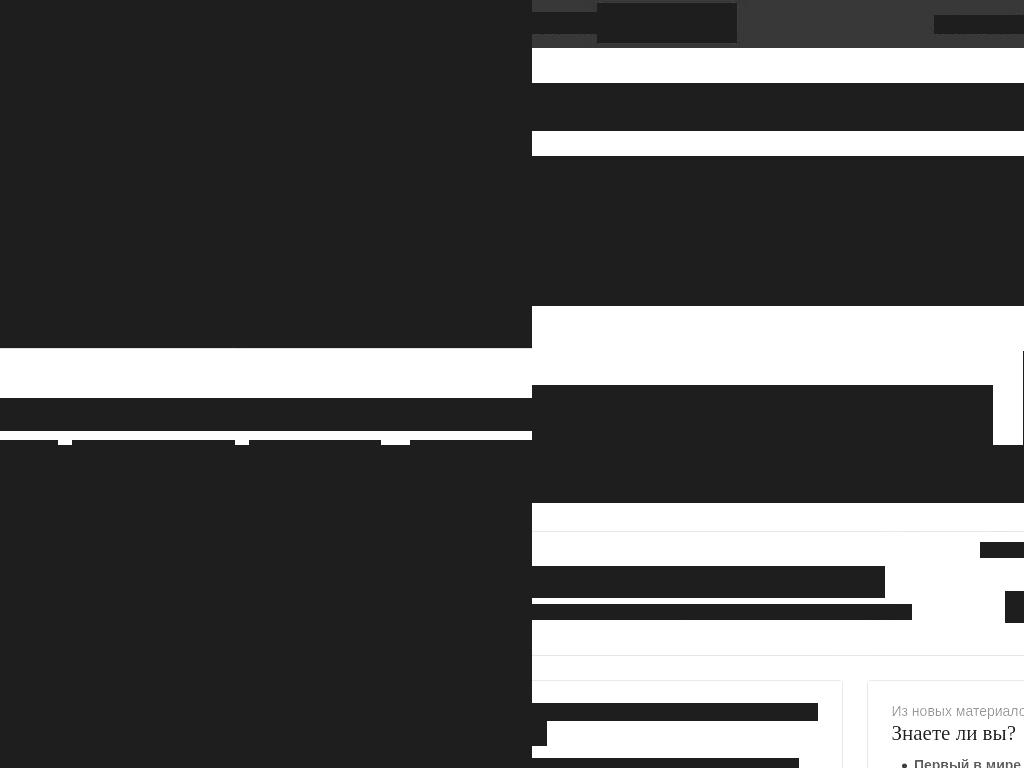button: (0, 445, 532, 527), (532, 385, 993, 445), (0, 24, 153, 191), (532, 83, 1024, 131), (38, 680, 266, 768), (234, 306, 532, 348), (0, 306, 234, 348), (597, 3, 737, 43), (876, 463, 983, 503), (0, 200, 100, 239), (532, 463, 602, 503), (818, 463, 877, 503), (982, 463, 1024, 503), (1005, 597, 1024, 614)
heading: (532, 385, 993, 445), (0, 398, 532, 431), (0, 24, 153, 121), (532, 95, 924, 120), (0, 130, 153, 191), (532, 566, 734, 598), (734, 566, 879, 598), (891, 721, 1016, 746), (532, 721, 547, 746), (877, 566, 885, 598)
iframe: (532, 156, 1024, 306), (324, 700, 532, 768)
image: (0, 445, 532, 768), (0, 0, 532, 307), (532, 445, 1024, 503), (38, 680, 266, 768)
link: (714, 604, 909, 620), (532, 604, 650, 620), (913, 756, 1021, 768), (538, 758, 595, 768), (961, 445, 1024, 449)
text: (0, 537, 522, 561), (532, 703, 818, 721), (532, 758, 799, 768), (891, 703, 1024, 721), (934, 15, 1024, 34), (532, 12, 598, 34), (649, 604, 714, 620), (767, 445, 953, 449), (980, 542, 1024, 558), (1005, 591, 1024, 623), (598, 758, 644, 768), (907, 604, 912, 620), (532, 758, 538, 768)
